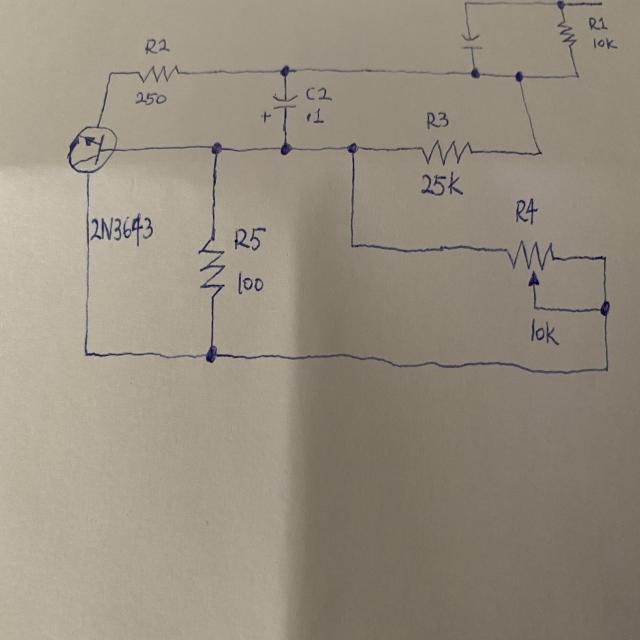capacitor: (260, 92, 298, 124), (457, 29, 488, 53)
junction: (200, 339, 223, 369), (273, 135, 299, 161), (595, 294, 616, 324), (204, 137, 228, 161), (341, 136, 363, 162), (77, 338, 96, 365), (528, 137, 548, 162), (276, 60, 296, 82), (345, 232, 363, 256), (466, 63, 485, 85), (511, 65, 529, 88), (596, 354, 612, 379), (568, 64, 586, 86), (595, 247, 611, 269), (459, 0, 478, 17), (552, 0, 574, 13), (104, 63, 118, 83), (531, 298, 542, 314)
resistor: (504, 239, 556, 288), (197, 233, 226, 303), (418, 139, 475, 165), (135, 64, 185, 85), (555, 18, 581, 54)
terminal: (590, 0, 612, 11)
text: (90, 212, 156, 246), (419, 169, 466, 199), (232, 222, 267, 253), (528, 317, 560, 348), (233, 269, 264, 298), (514, 193, 540, 227), (132, 88, 170, 109), (143, 34, 172, 56), (426, 108, 451, 132), (305, 82, 333, 103), (592, 36, 622, 54), (306, 107, 328, 126), (587, 13, 610, 31)
transistor: (65, 122, 127, 179)
